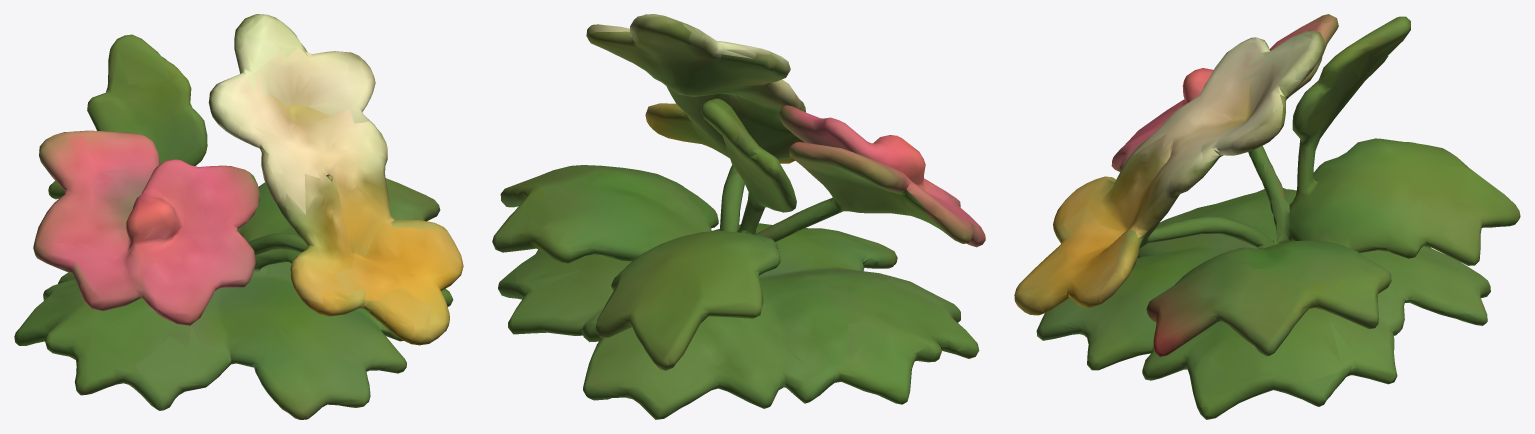
The model's file is flores_colores.glb.
3 views of the same model, side by side, from view 1: azimuth 30°, elevation 25°; view 2: azimuth 150°, elevation 25°; view 3: azimuth 270°, elevation 25° (orthographic). The views are drawn at different scales.
Visible parts, largest first — view 1: flores_colores_malla; view 2: flores_colores_malla; view 3: flores_colores_malla.
Boxes of the visible parts, box(x1,y1,x2,y2) form: flores_colores_malla: box(14, 14, 463, 419); flores_colores_malla: box(492, 14, 985, 419); flores_colores_malla: box(1014, 14, 1520, 419).
Size of the model in its own units: 0.1126 by 0.077 by 0.1117.
Materials: 1 (1 with a texture image).
